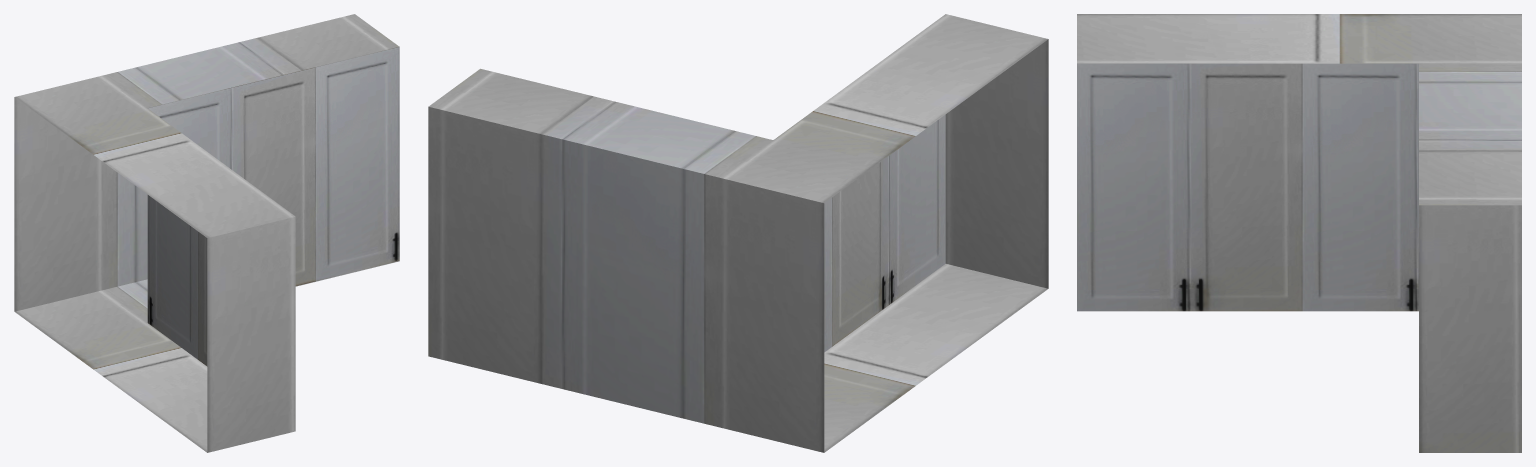
File: House_Demo_031-col.glb
3 renders of one model, left to right at view 1: azimuth 30°, elevation 25°; view 2: azimuth 150°, elevation 25°; view 3: azimuth 270°, elevation 25°, orthographic. The views are drawn at different scales.
Visible parts, largest first — view 1: House_Demo_031-col; view 2: House_Demo_031-col; view 3: House_Demo_031-col.
Part boxes in pixels (bbox=[...]): House_Demo_031-col: bbox=[14, 14, 399, 452]; House_Demo_031-col: bbox=[428, 14, 1048, 452]; House_Demo_031-col: bbox=[1077, 14, 1521, 452].
Bounding box in the file's own units: 4.67 × 2.81 × 4.58.
1 material, 1 textured.
